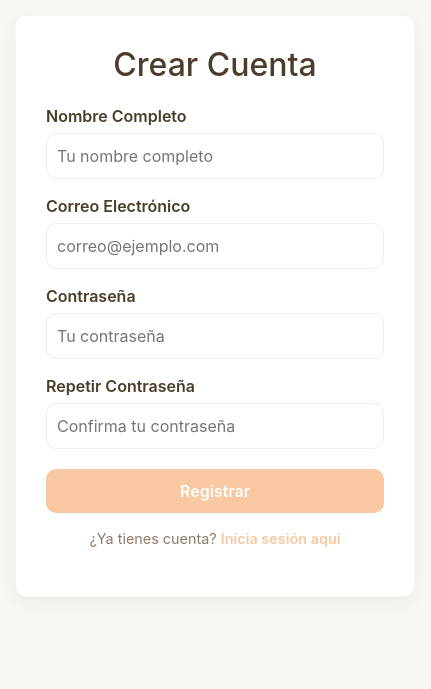
Scenario: Componente Register › muestra mensaje de error si register falla
Type "Test User" into the field labelled "Nombre Completo".
click(215, 156); type("Test User")  # box [46,133,384,179]
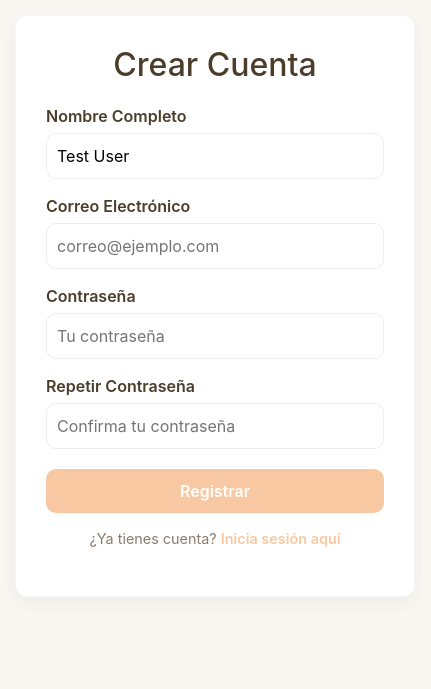
Type "test@example.com" into the field labelled "Correo Electrónico".
click(215, 246); type("test@example.com")  # box [46,223,384,269]
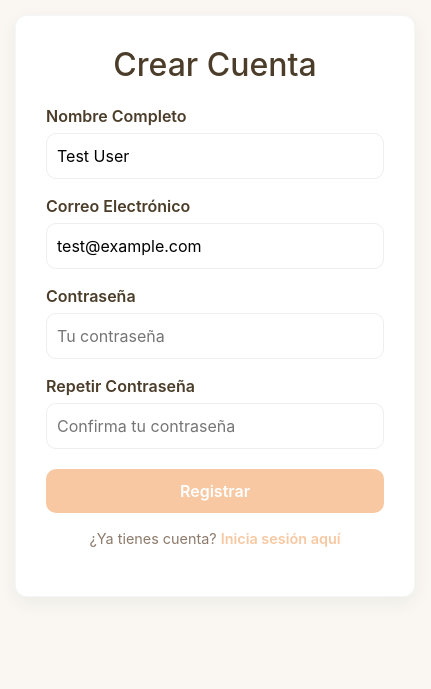
Type "abc" into the password field labelled "Contraseña".
click(215, 336); type("abc")  # box [46,313,384,359]
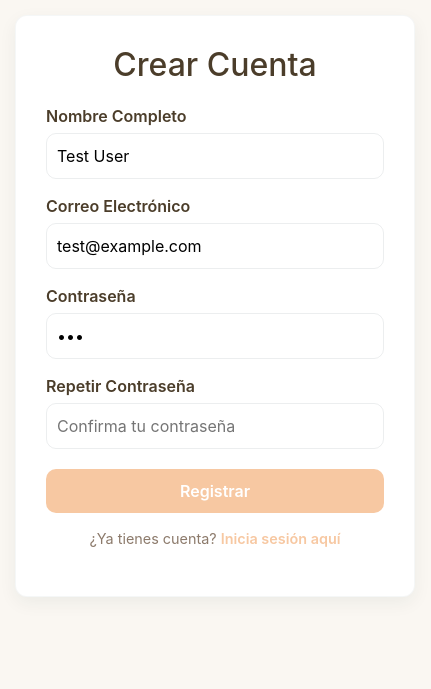
Type "abc" into the password field labelled "Repetir Contraseña".
click(215, 426); type("abc")  # box [46,403,384,449]
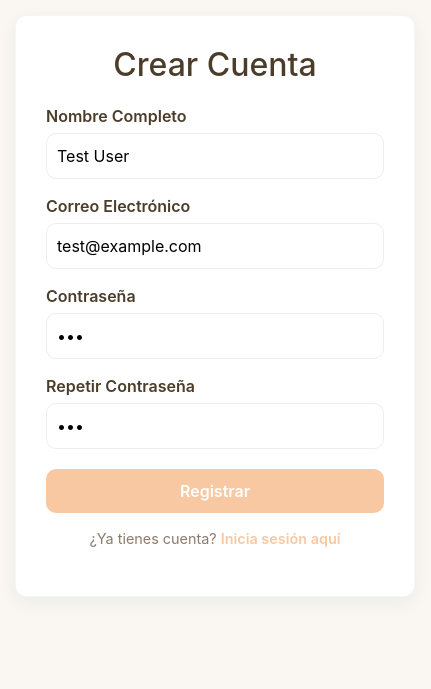
Click the button "Registrar".
click(215, 491)  # box [46,469,384,513]
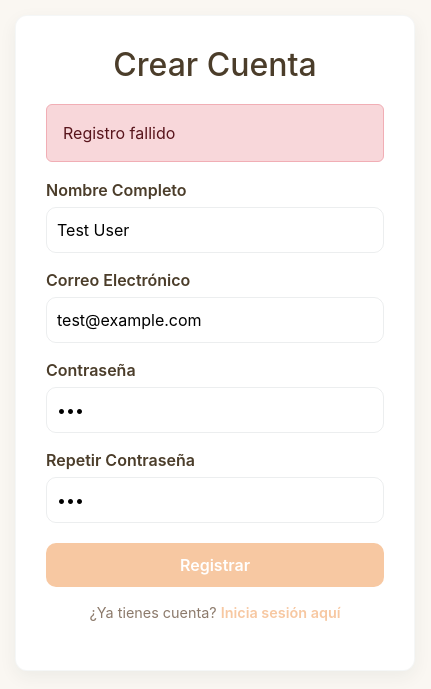
expect the text "Registro fallido" is shown: met, box [46,104,384,162]
